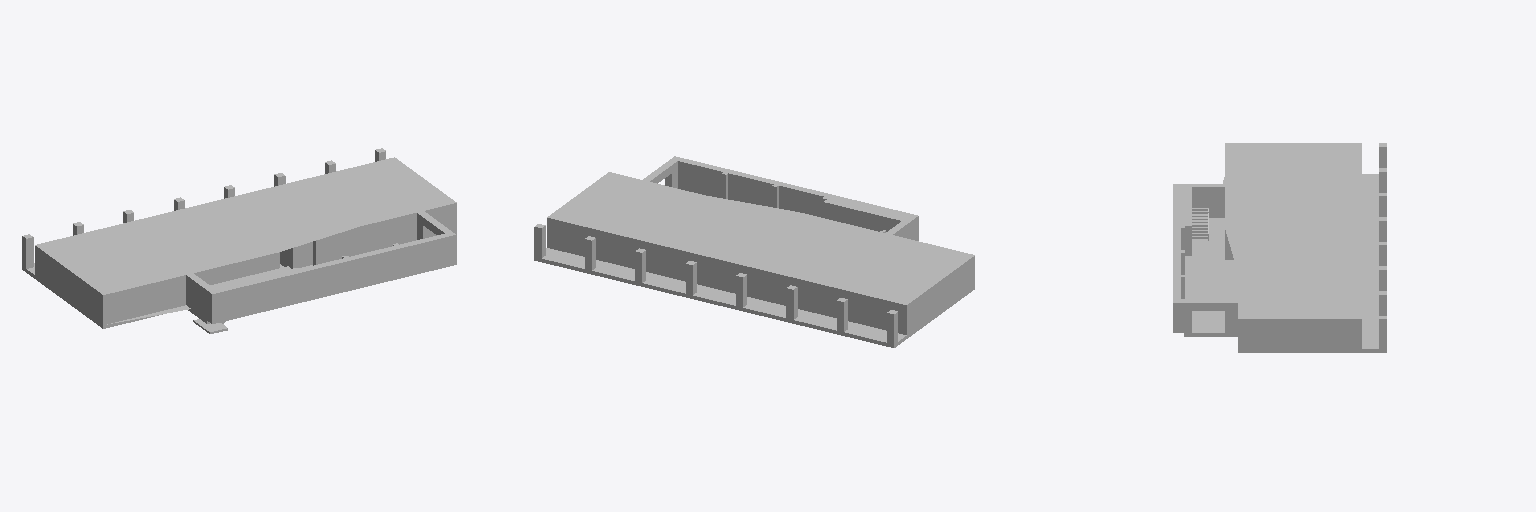
File: 3dMap_cafe_2F.obj
The picture shows the model from 3 angles: view 1: azimuth 30°, elevation 25°; view 2: azimuth 150°, elevation 25°; view 3: azimuth 270°, elevation 25°; orthographic projection.
Visible parts, largest first — view 1: wall_C_2F_立方体.110, pillar_C_1F-2.001_立方体.103, floor_C_2F_立方体.069; view 2: wall_C_2F_立方体.110, floor_C_2F_立方体.069, pillar_C_1F-2.001_立方体.103; view 3: wall_C_2F_立方体.110, floor_C_2F_立方体.069, pillar_C_1F-2.001_立方体.103, Str_C_2F_立方体.091.
Boxes of the visible parts, box(x1,y1,x2,y2) form: wall_C_2F_立方体.110: box(35, 157, 456, 324); pillar_C_1F-2.001_立方体.103: box(22, 148, 385, 268); floor_C_2F_立方体.069: box(22, 233, 456, 328); wall_C_2F_立方体.110: box(547, 156, 974, 334); floor_C_2F_立方体.069: box(534, 248, 974, 347); pillar_C_1F-2.001_立方体.103: box(534, 224, 897, 343); wall_C_2F_立方体.110: box(1173, 143, 1361, 348); floor_C_2F_立方体.069: box(1184, 174, 1386, 352); pillar_C_1F-2.001_立方体.103: box(1379, 143, 1386, 348); Str_C_2F_立方体.091: box(1192, 208, 1224, 248).
Size of the model in its own units: 37.5 by 4.92 by 19.38.